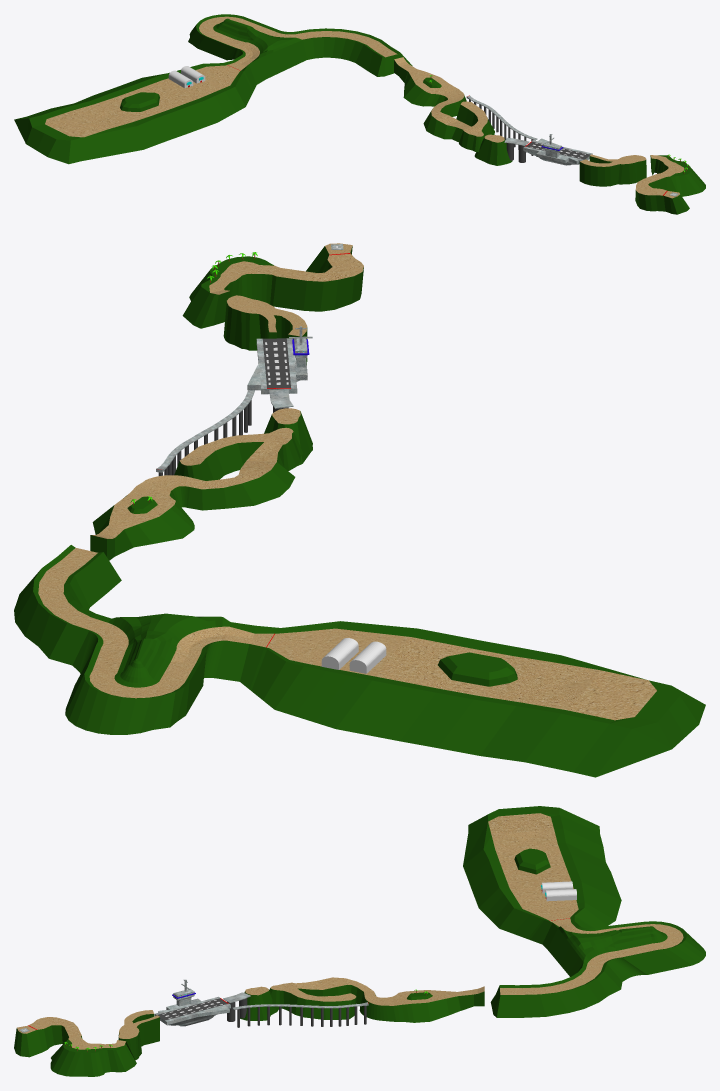
File: Archipelago.fbx
3 views of the same model, one above another, from view 1: azimuth 30°, elevation 25°; view 2: azimuth 150°, elevation 25°; view 3: azimuth 270°, elevation 25° (orthographic). The views are drawn at different scales.
Visible parts, largest first — view 1: Course; view 2: Course; view 3: Course.
Part boxes in pixels (x1=…): Course: x1=14, y1=14, x2=705, y2=214; Course: x1=14, y1=243, x2=705, y2=777; Course: x1=14, y1=806, x2=705, y2=1076.
Size of what is drawn, in the model's own units: 38193 by 3211 by 43391.
Materials: 12 (2 with a texture image).
